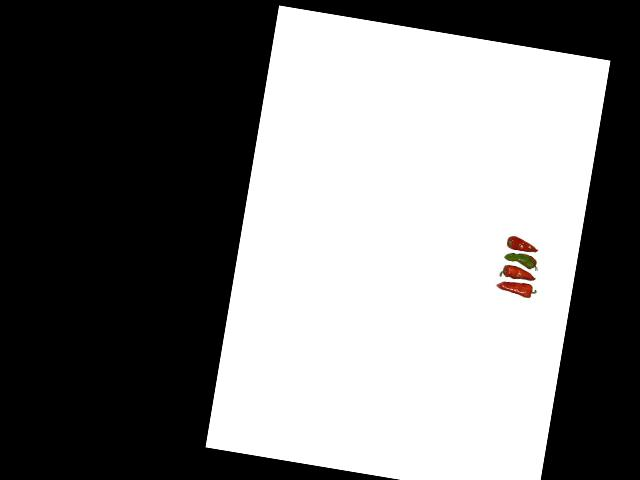bell_pepper: (504, 231, 543, 255)
